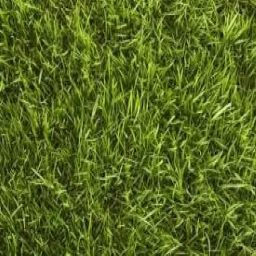grass: (3, 5, 249, 246)
